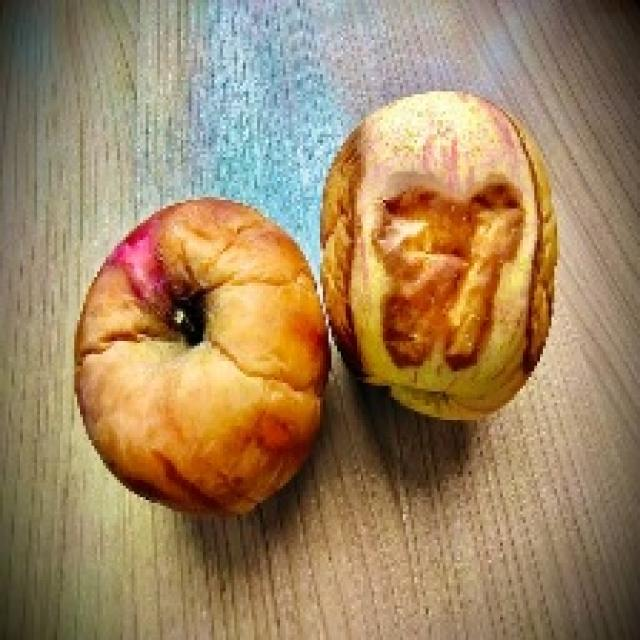rotten_apple: (76, 200, 330, 508), (330, 94, 556, 416)
